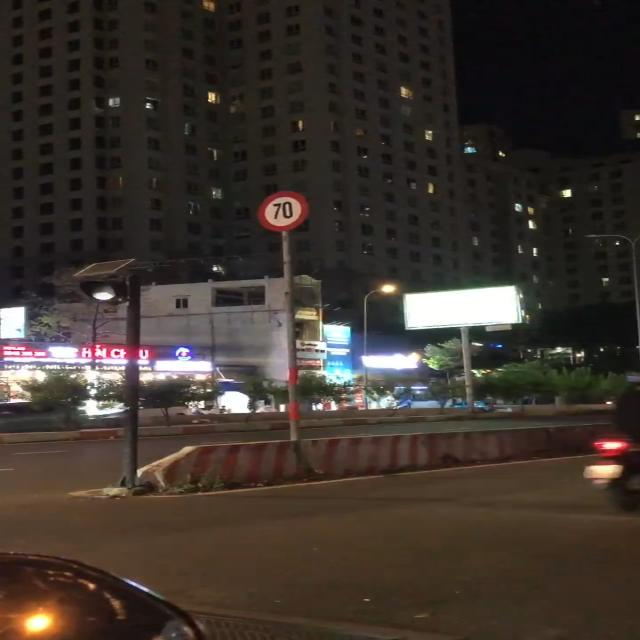Bien bao toc do toi da cho phep: (250, 188, 324, 236)
